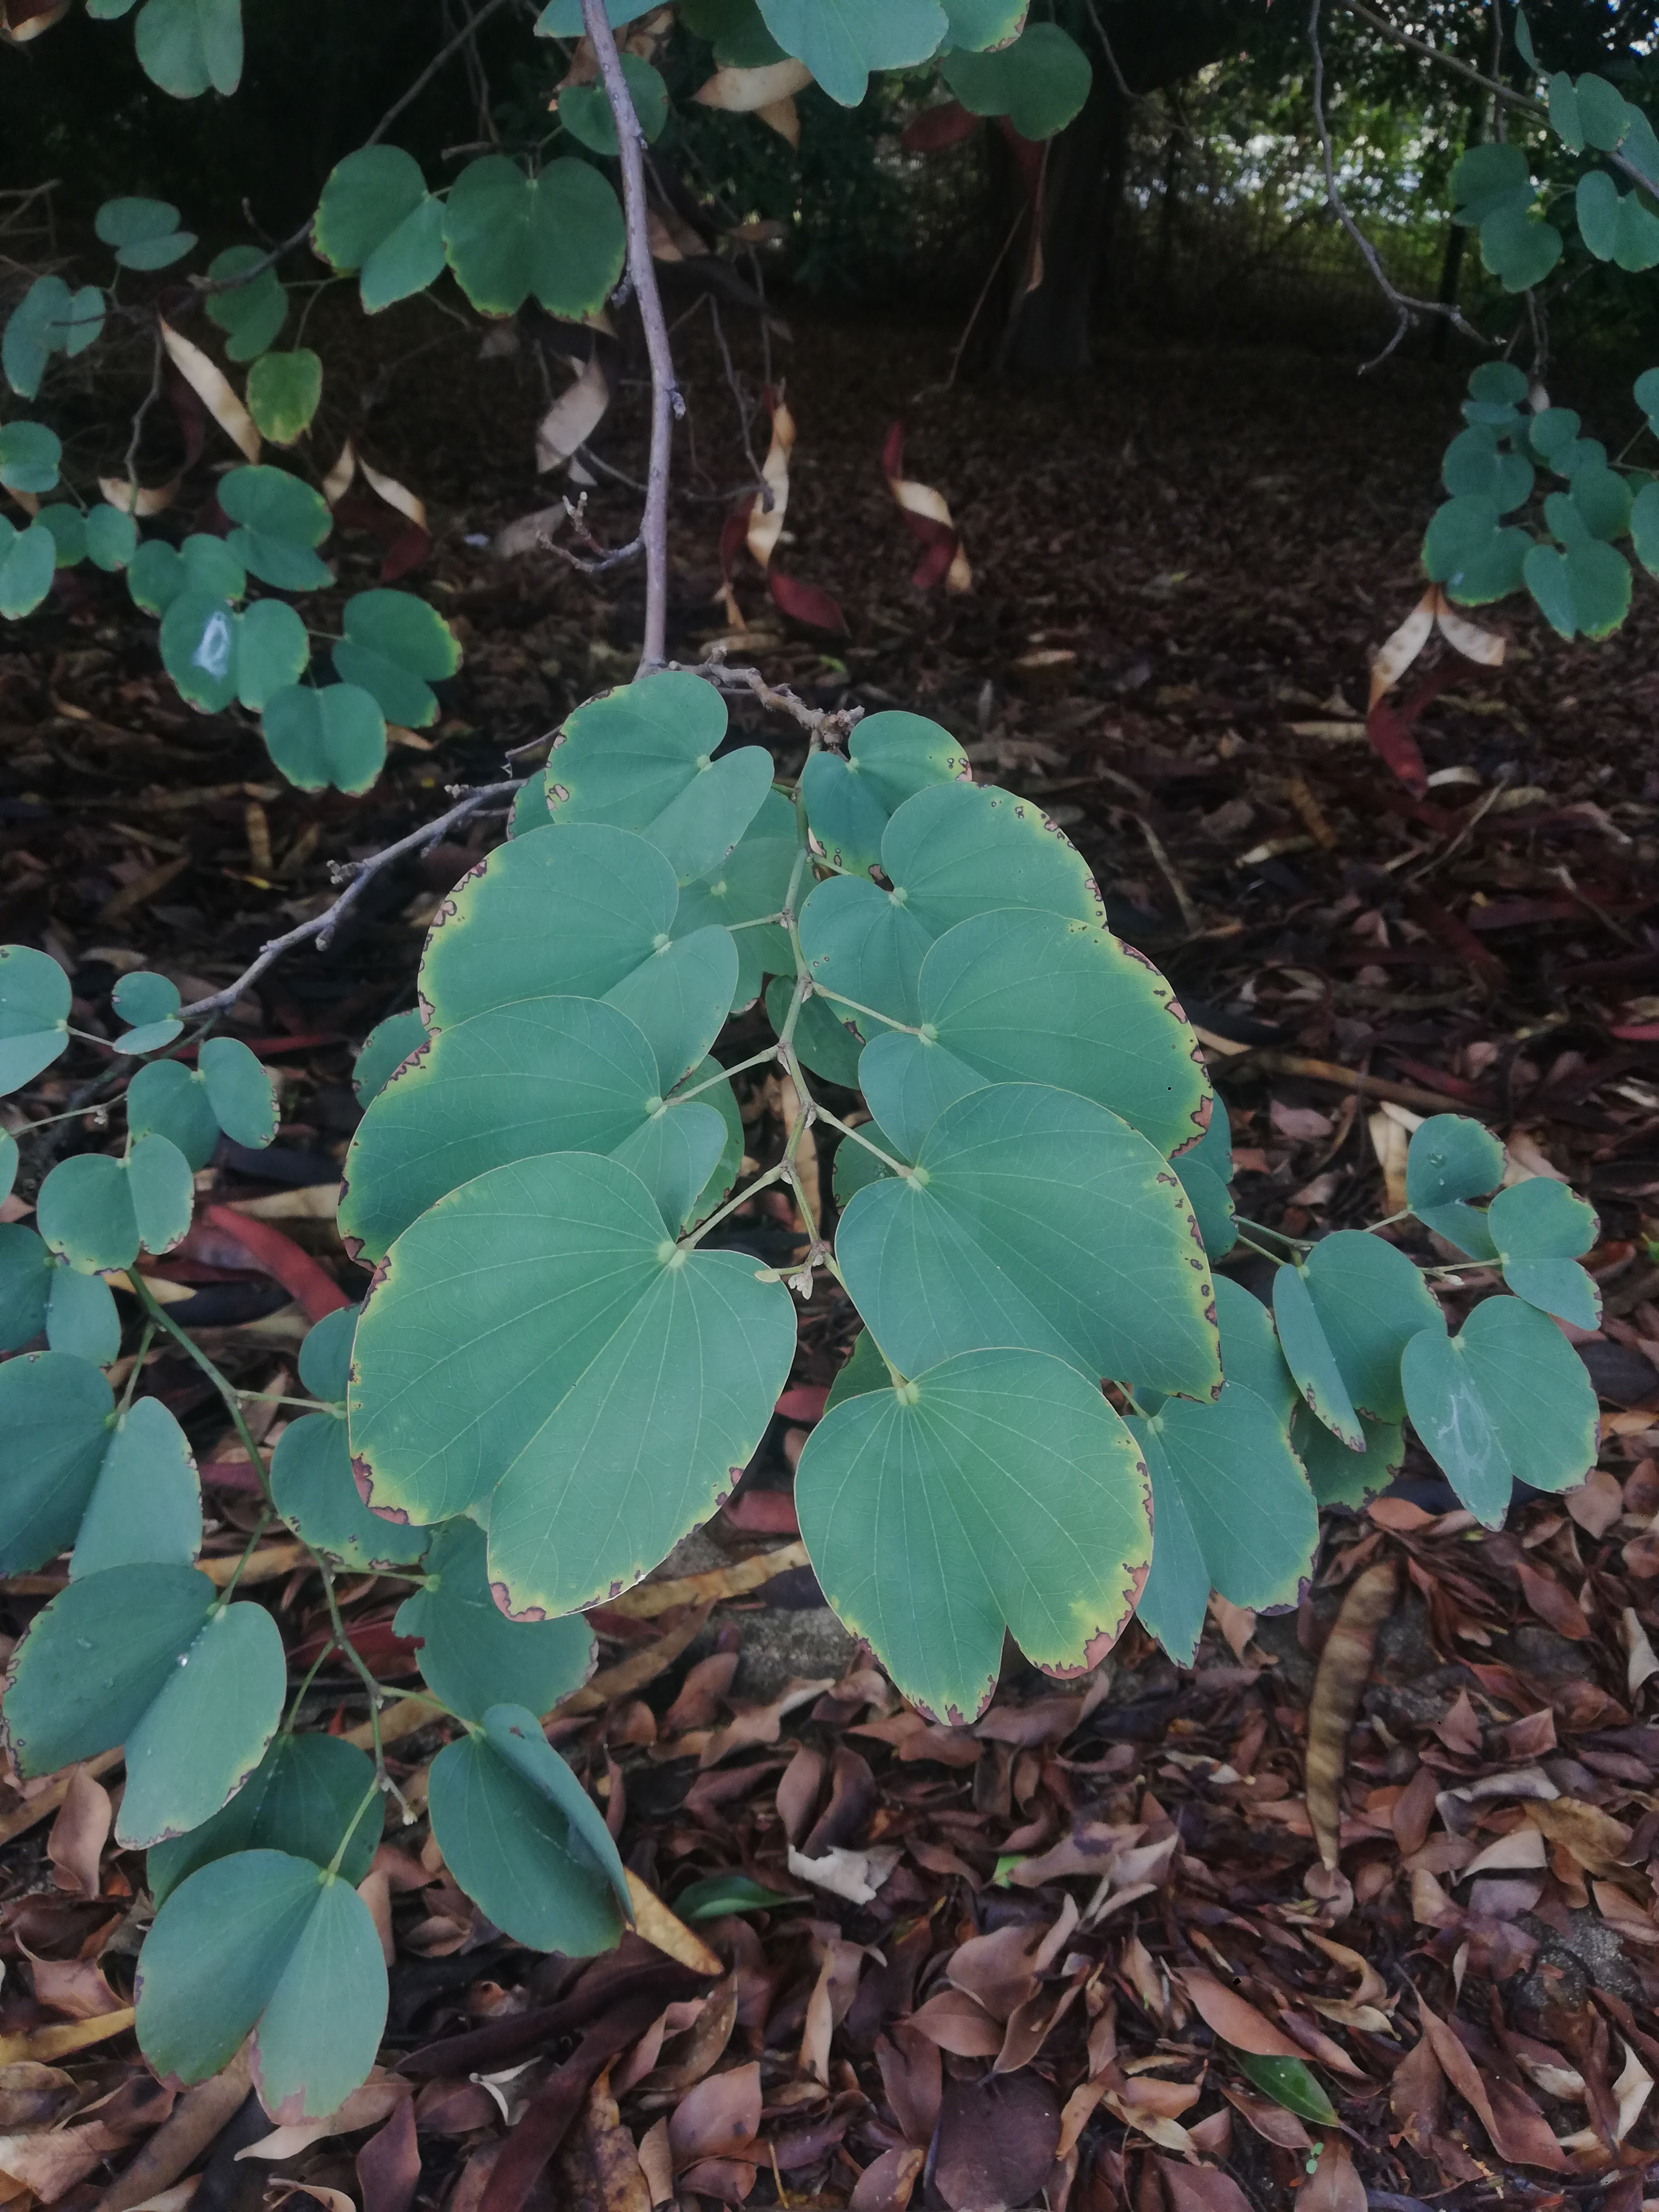nothealthy: (324, 1136, 802, 1620), (823, 1069, 1262, 1444), (762, 1334, 1147, 1733), (838, 888, 1234, 1212), (389, 782, 758, 1111)
